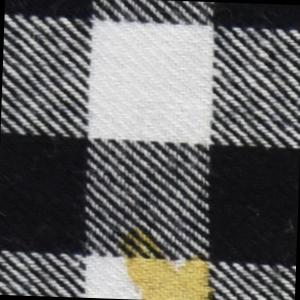Stain: (116, 224, 225, 300)
